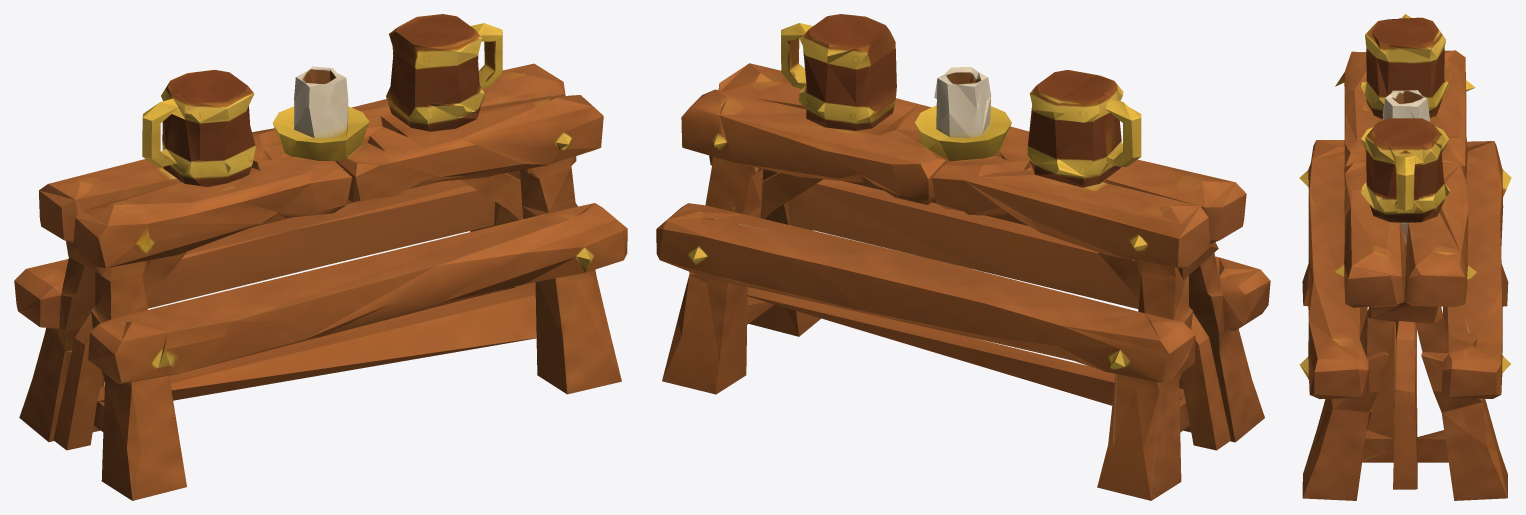
Rendered from TWN_PRP_tavern_table_A.glb.
3 views of the same model, side by side, from view 1: azimuth 30°, elevation 25°; view 2: azimuth 150°, elevation 25°; view 3: azimuth 270°, elevation 25° (orthographic). The views are drawn at different scales.
Parts seen in each view (by area): view 1: Mesh_0; view 2: Mesh_0; view 3: Mesh_0.
Boxes of the visible parts, x1=… form: Mesh_0: x1=14, y1=14, x2=627, y2=500; Mesh_0: x1=656, y1=14, x2=1270, y2=500; Mesh_0: x1=1299, y1=14, x2=1511, y2=500.
Bounding box in the file's own units: 1.9 × 1.2 × 0.7384.
1 material, 1 textured.
